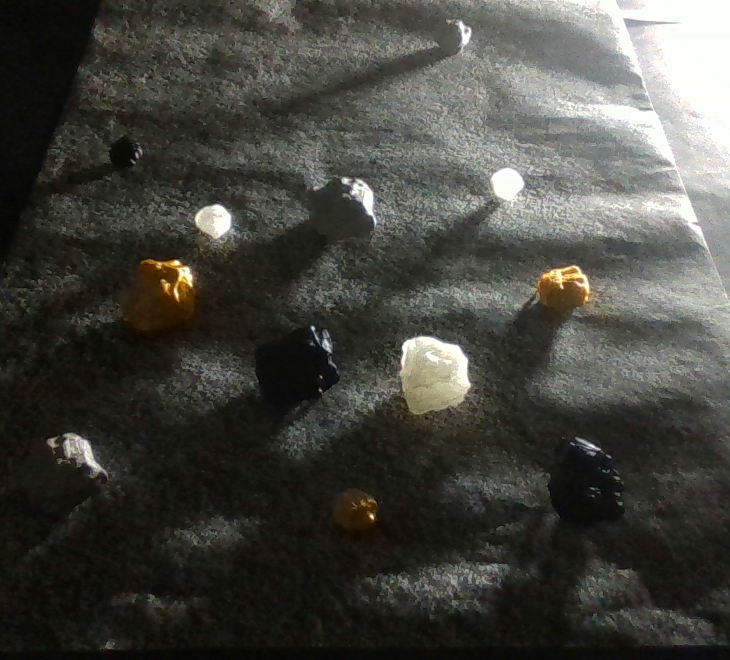anorthosite: (400, 337, 470, 415), (194, 205, 230, 239), (491, 169, 522, 200)
basalt: (253, 323, 339, 405), (546, 437, 623, 526), (109, 137, 142, 170)
metal: (108, 253, 177, 332), (535, 265, 589, 313), (331, 487, 378, 533)
regolith: (14, 432, 108, 521), (304, 177, 375, 246), (433, 19, 470, 54)
